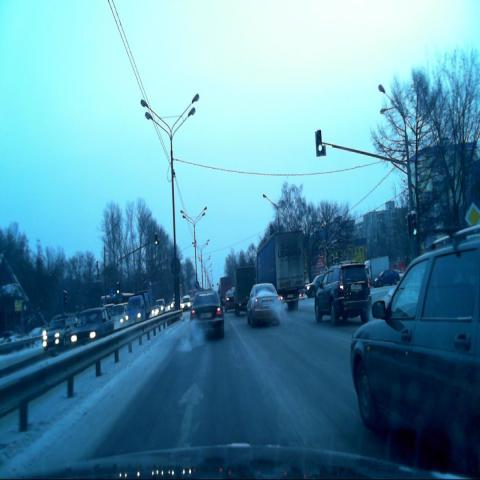2_1: (466, 202, 480, 232)
